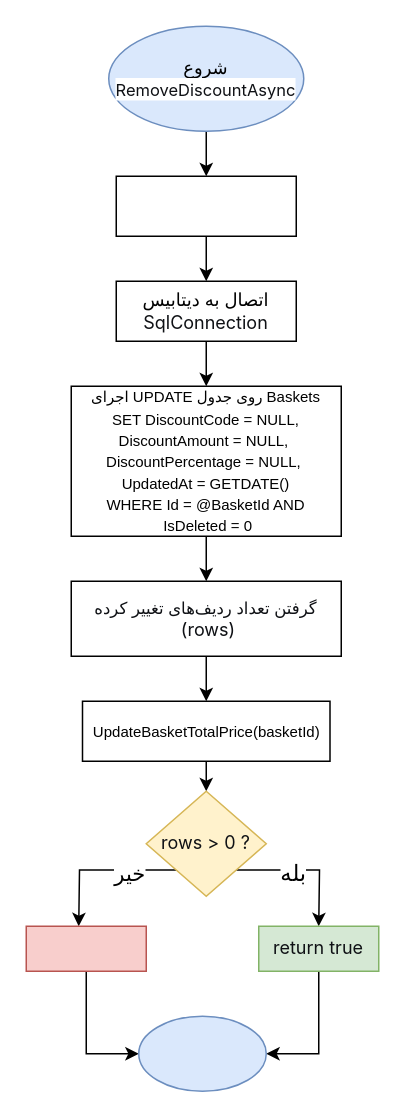
The diagram is 405 pixels wide and 1118 high, and some of its shapes have lost their labels. The shapes that lost their labels are listed below. From the top down, each one's box as (x1, y1, x2, y2) in pixels, then its label:
(115, 175, 296, 236): دریافت ورودی basketId
(25, 925, 146, 971): return false
(137, 1015, 266, 1091): پایان
